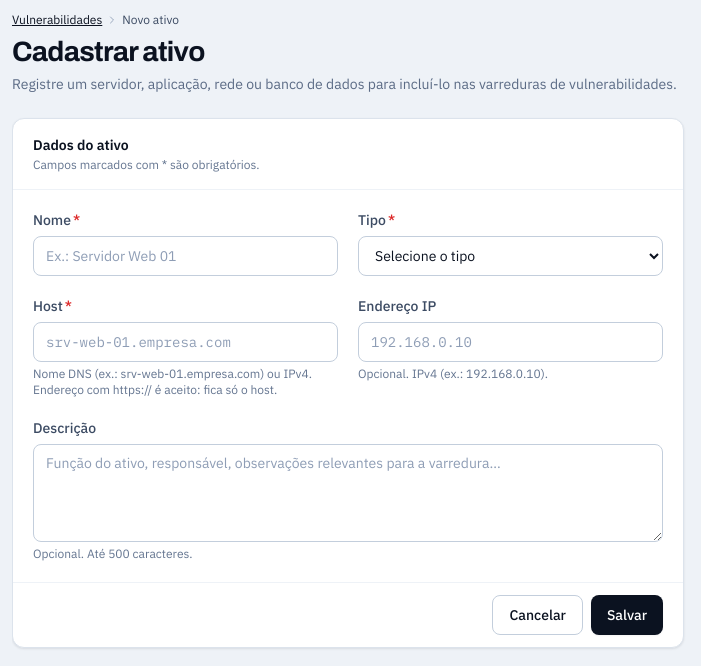
Test: AssetFormPage › descrição longa recusada pela API aparece no próprio campo (DESCRICAO_INVALIDA, B10)
The width and height of the screenshot is (701, 666).
Type "Ativo com descrição" into the field labelled "Nome*". click: (186, 256)
box: [33, 236, 338, 276]
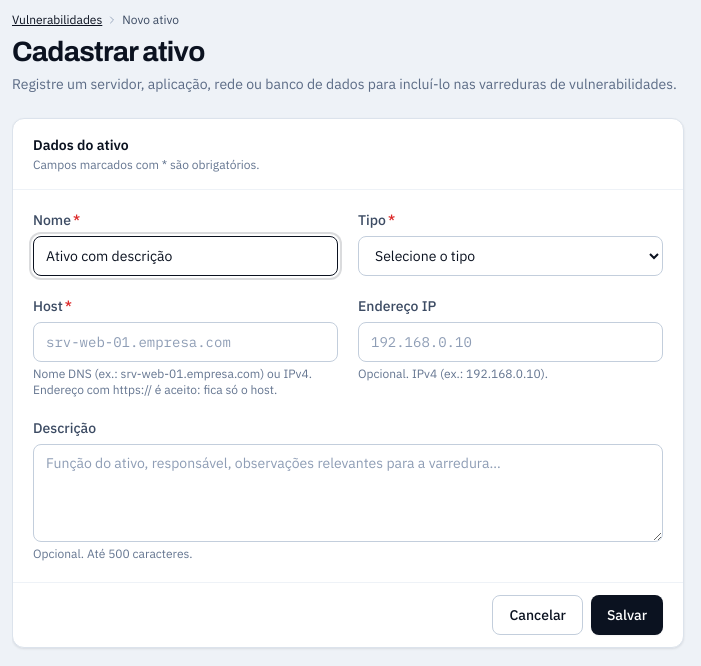
Select "Servidor" in the dropdown labelled "Tipo*". click: (510, 256)
box: [358, 236, 663, 276]
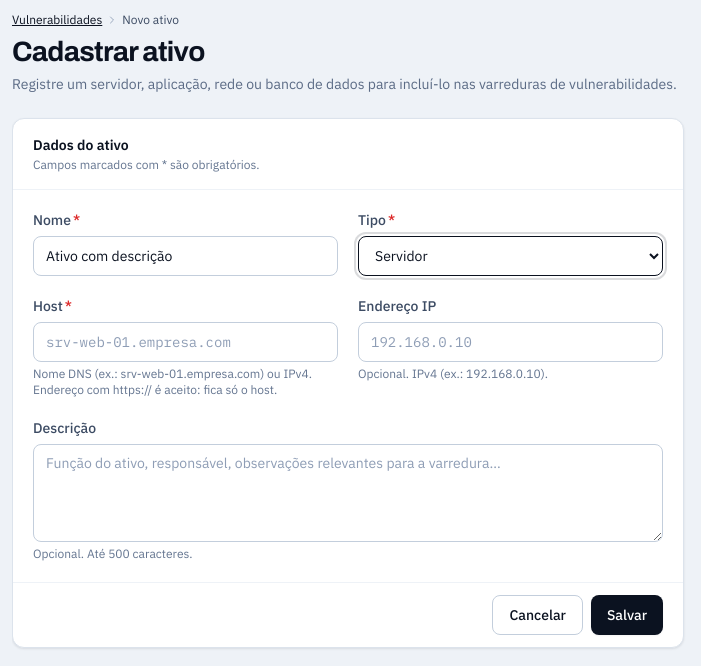
Type "desc-b10.empresa.com" into the field labelled "Host*". click: (186, 342)
box: [33, 322, 338, 362]
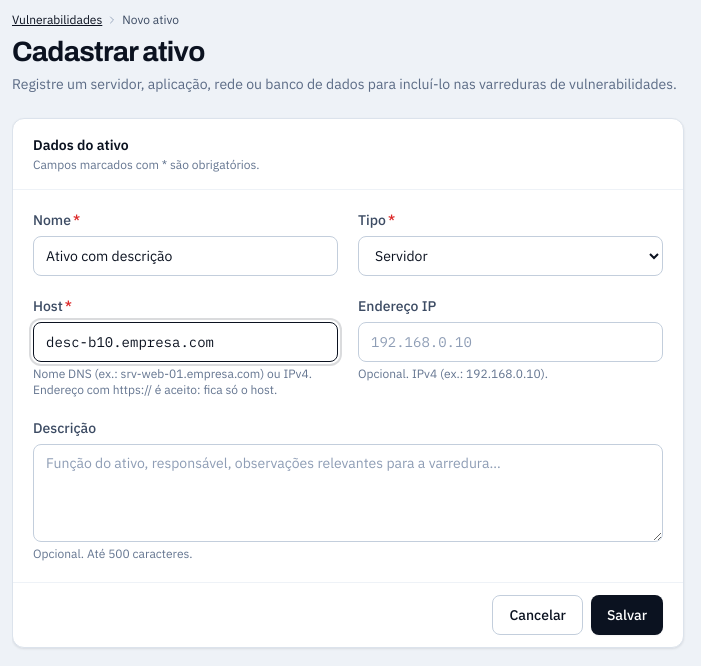
Type "curta" into the text box labelled "Descrição". click: (348, 493)
box: [33, 444, 663, 542]
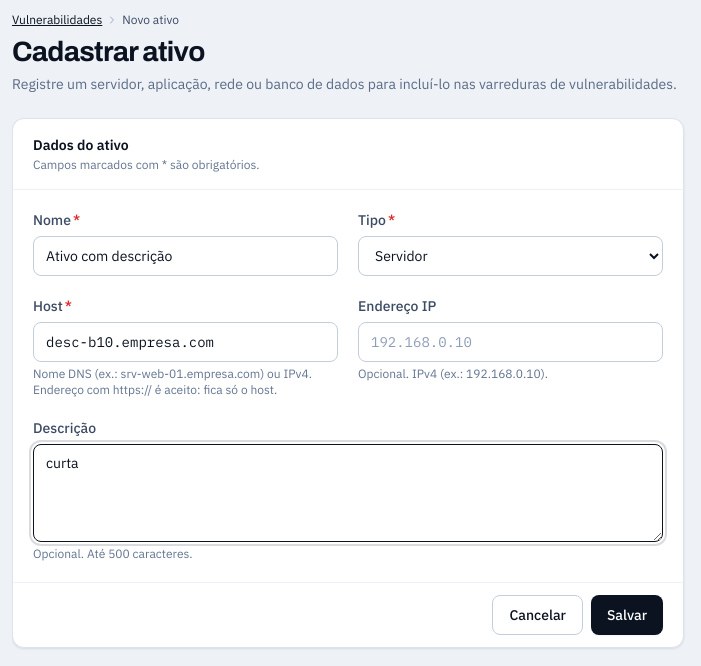
Click the button "Salvar". click: (627, 615)
box: [591, 595, 663, 635]
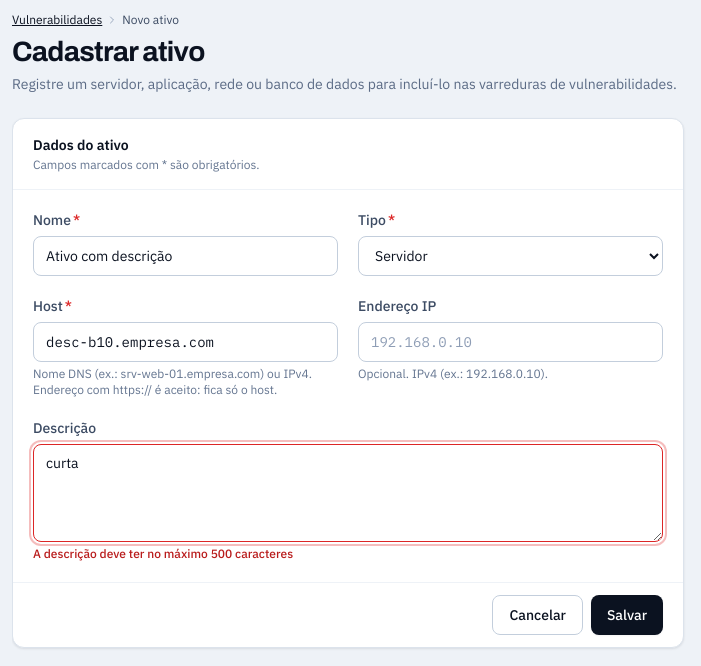
Expected: the text "A descrição deve ter no máximo 500 caracteres" is shown, [33, 546, 293, 561]
